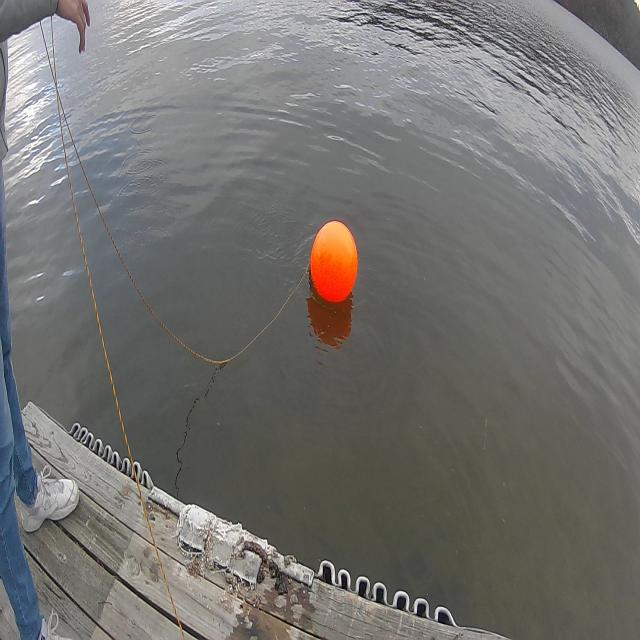Buoy: (303, 211, 364, 317)
